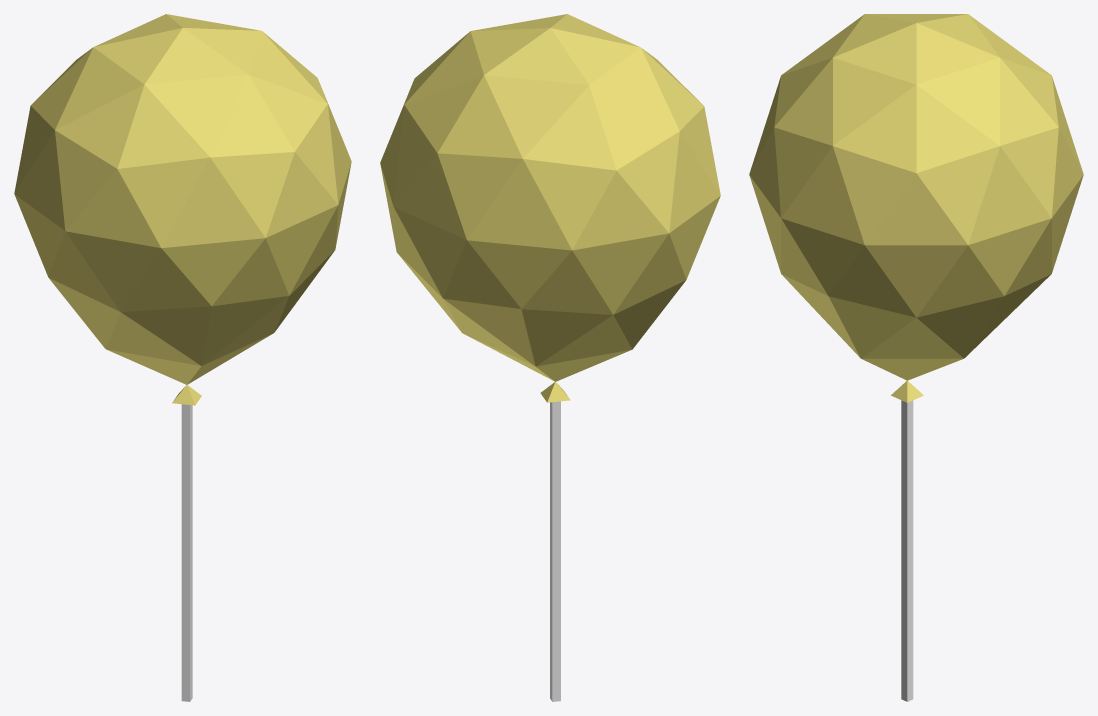
File: Balloon - Low Poly.fbx
3 views of the same model, side by side, from view 1: azimuth 30°, elevation 25°; view 2: azimuth 150°, elevation 25°; view 3: azimuth 270°, elevation 25° (orthographic).
Visible parts, largest first — view 1: Balloon; view 2: Balloon; view 3: Balloon.
Part boxes in pixels (x1,y1,x2,y2): Balloon: [14, 14, 351, 701]; Balloon: [380, 14, 720, 701]; Balloon: [749, 14, 1083, 701].
Bounding box in the file's own units: 90 × 201 × 90.
